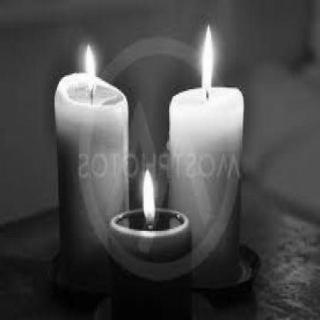Fire: (194, 14, 227, 103), (77, 27, 103, 103)
